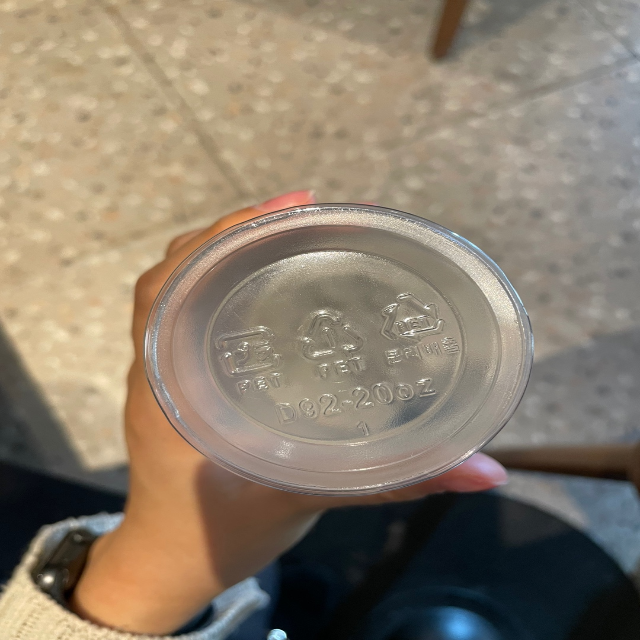pet: (375, 290, 466, 370), (208, 318, 288, 396), (296, 302, 372, 383)
